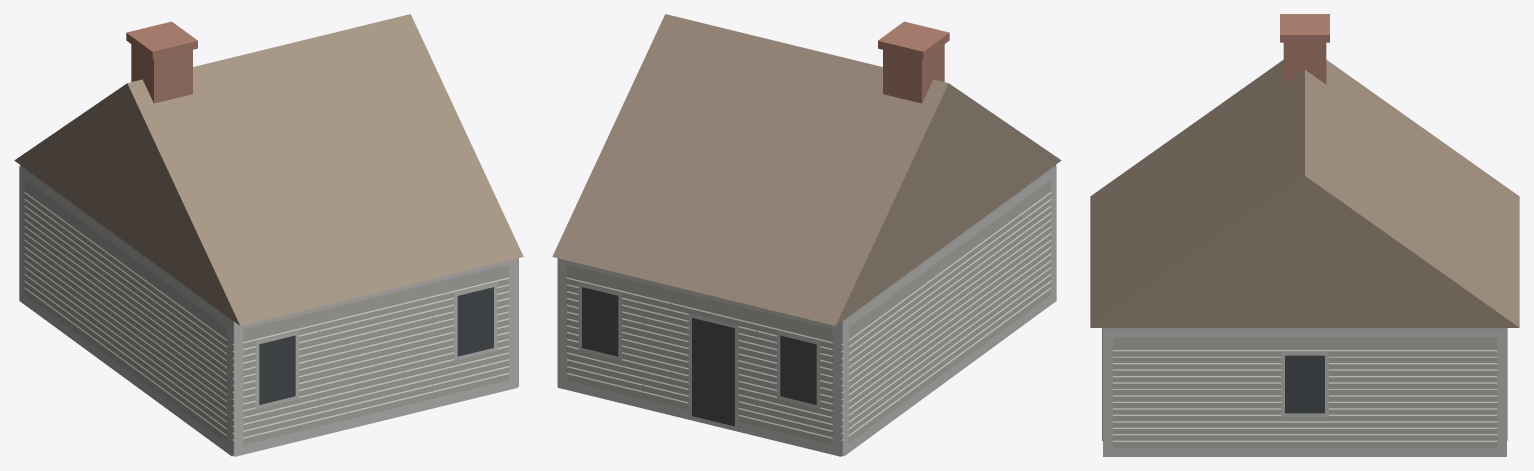
File: recon_1835_north_d4_004__inferred_1835.glb
3 views of the same model, side by side, from view 1: azimuth 30°, elevation 25°; view 2: azimuth 150°, elevation 25°; view 3: azimuth 270°, elevation 25° (orthographic). The views are drawn at different scales.
Parts seen in each view (by area): view 1: recon_1835_north_d4_004__inferred_1835; view 2: recon_1835_north_d4_004__inferred_1835; view 3: recon_1835_north_d4_004__inferred_1835.
Boxes of the visible parts, box(x1,y1,x2,y2) form: recon_1835_north_d4_004__inferred_1835: box(14, 14, 523, 456); recon_1835_north_d4_004__inferred_1835: box(552, 14, 1061, 456); recon_1835_north_d4_004__inferred_1835: box(1090, 14, 1519, 456).
Bounding box in the file's own units: 6.18 × 6.85 × 8.43.
